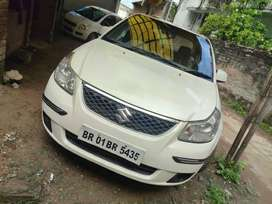BR01BR5435: (77, 123, 145, 165)
